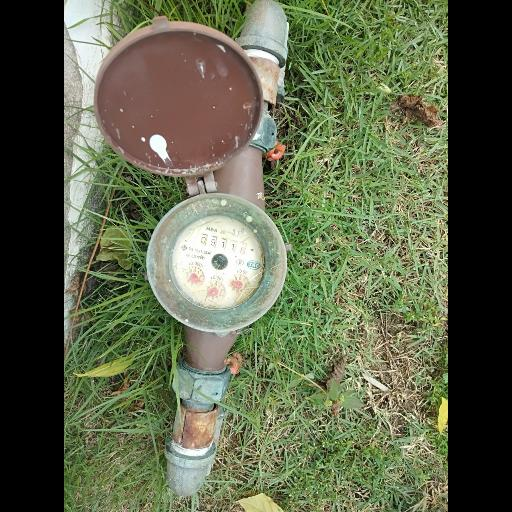0: (200, 233, 209, 245)
1: (219, 238, 227, 250), (228, 240, 236, 252)
8: (238, 242, 246, 254)
9: (209, 235, 217, 247)
border_water_meter_number: (199, 233, 248, 255)
